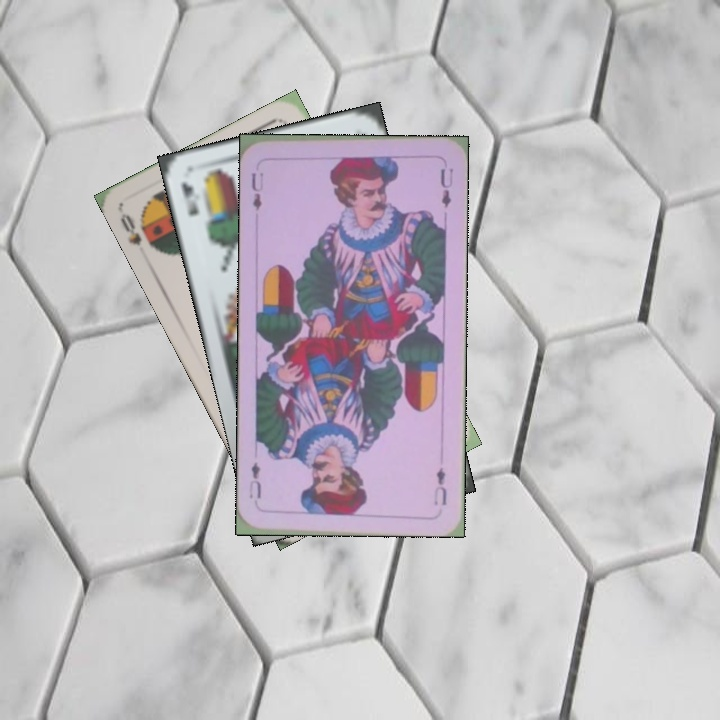EK: (176, 179, 202, 219)
EU: (247, 168, 266, 213), (430, 463, 449, 508)
SO: (116, 209, 145, 249)
